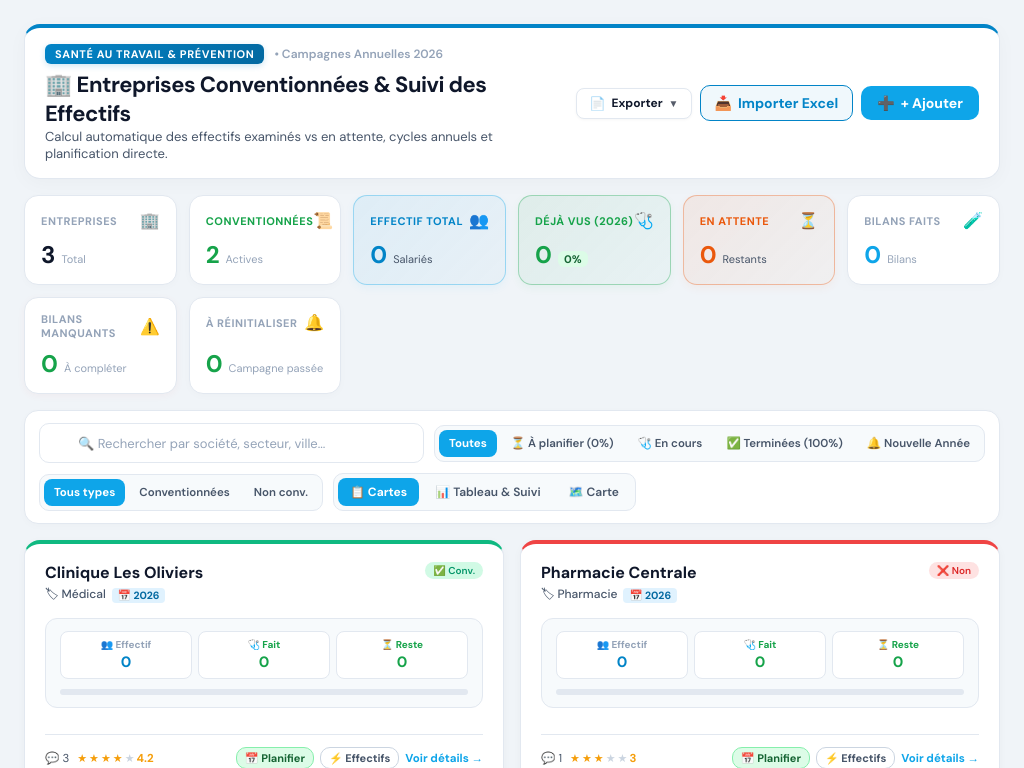
Test: Entreprises page — détail & avis › shows detail panel on card click
The image size is (1024, 768).
Expected: the text "Clinique Les Oliviers" is shown, x1=45 y1=562 x2=203 y2=583
Click the text "Voir détails →" in the row of "4.2" at (444, 758), box x1=405 y1=750 x2=483 y2=766
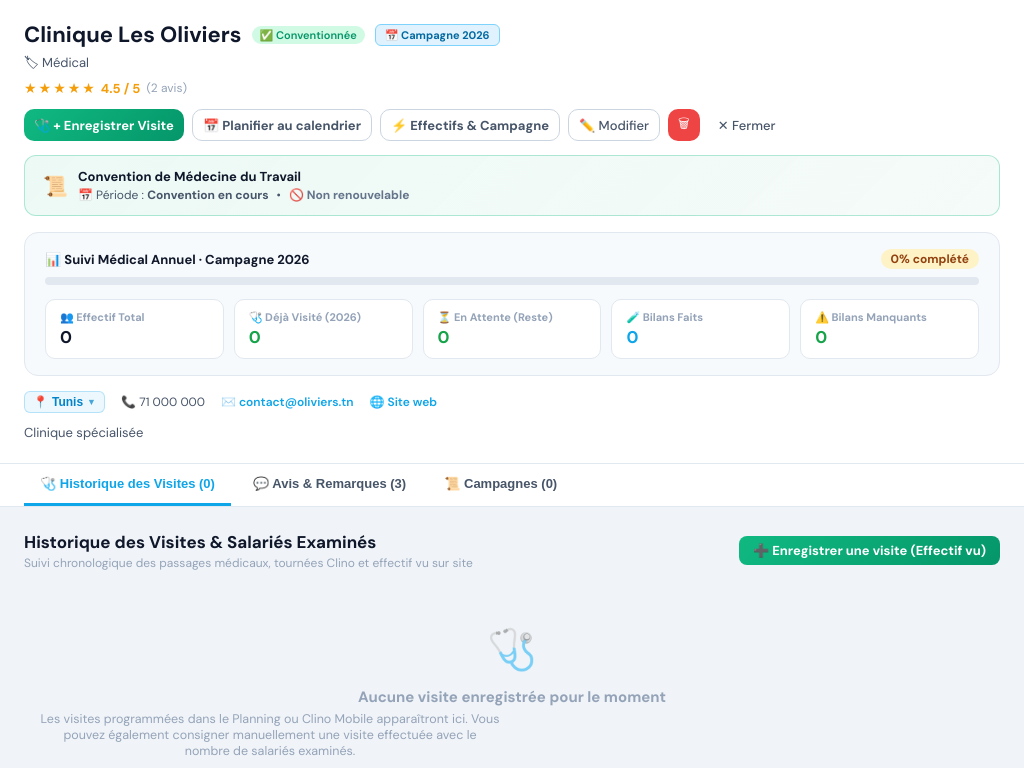
Expected: the button "💬 Avis & Remarques (3)" is shown, x1=237 y1=464 x2=422 y2=506
Expected: the text "Convention de Médecine du Travail" is shown, x1=78 y1=168 x2=301 y2=185
